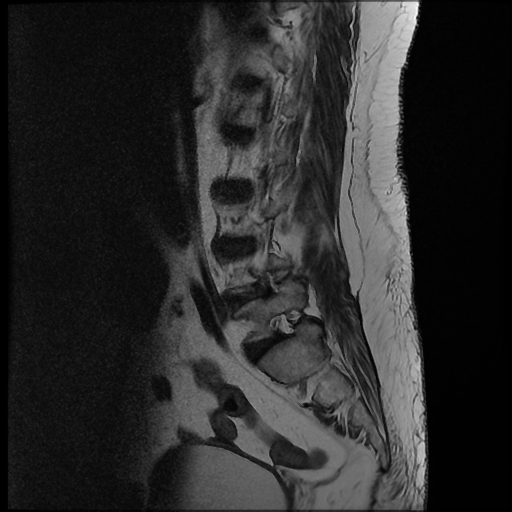RFS0: (263, 302, 307, 349)
